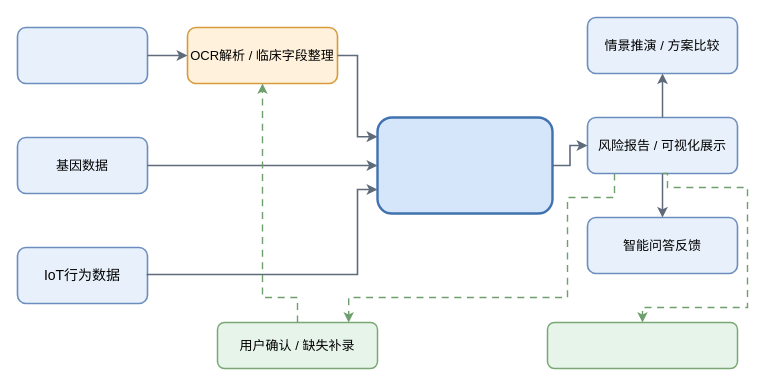
Some shapes in this 774 by 387 pixel diagram are drawn without their labels. The shapes that lost their labels are listed below. From the top down, each one's centre as x and y in pixels, then its label:
At point 82,55: "体检表/健康档案".
At point 464,165: "综合风险分析".
At point 642,345: "历史记录回写 / 时间线更新".
